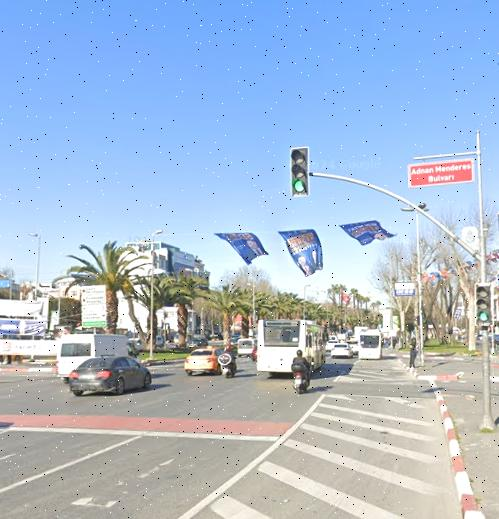greenlight: (289, 149, 309, 195), (476, 286, 490, 324)
